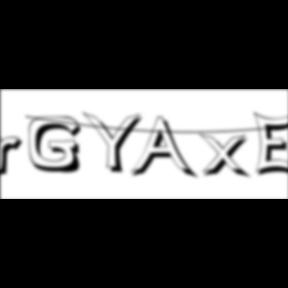A: (130, 116, 199, 182)
G: (30, 116, 88, 176)
Y: (82, 110, 148, 176)
r: (1, 134, 30, 180)
x: (199, 132, 254, 181)
